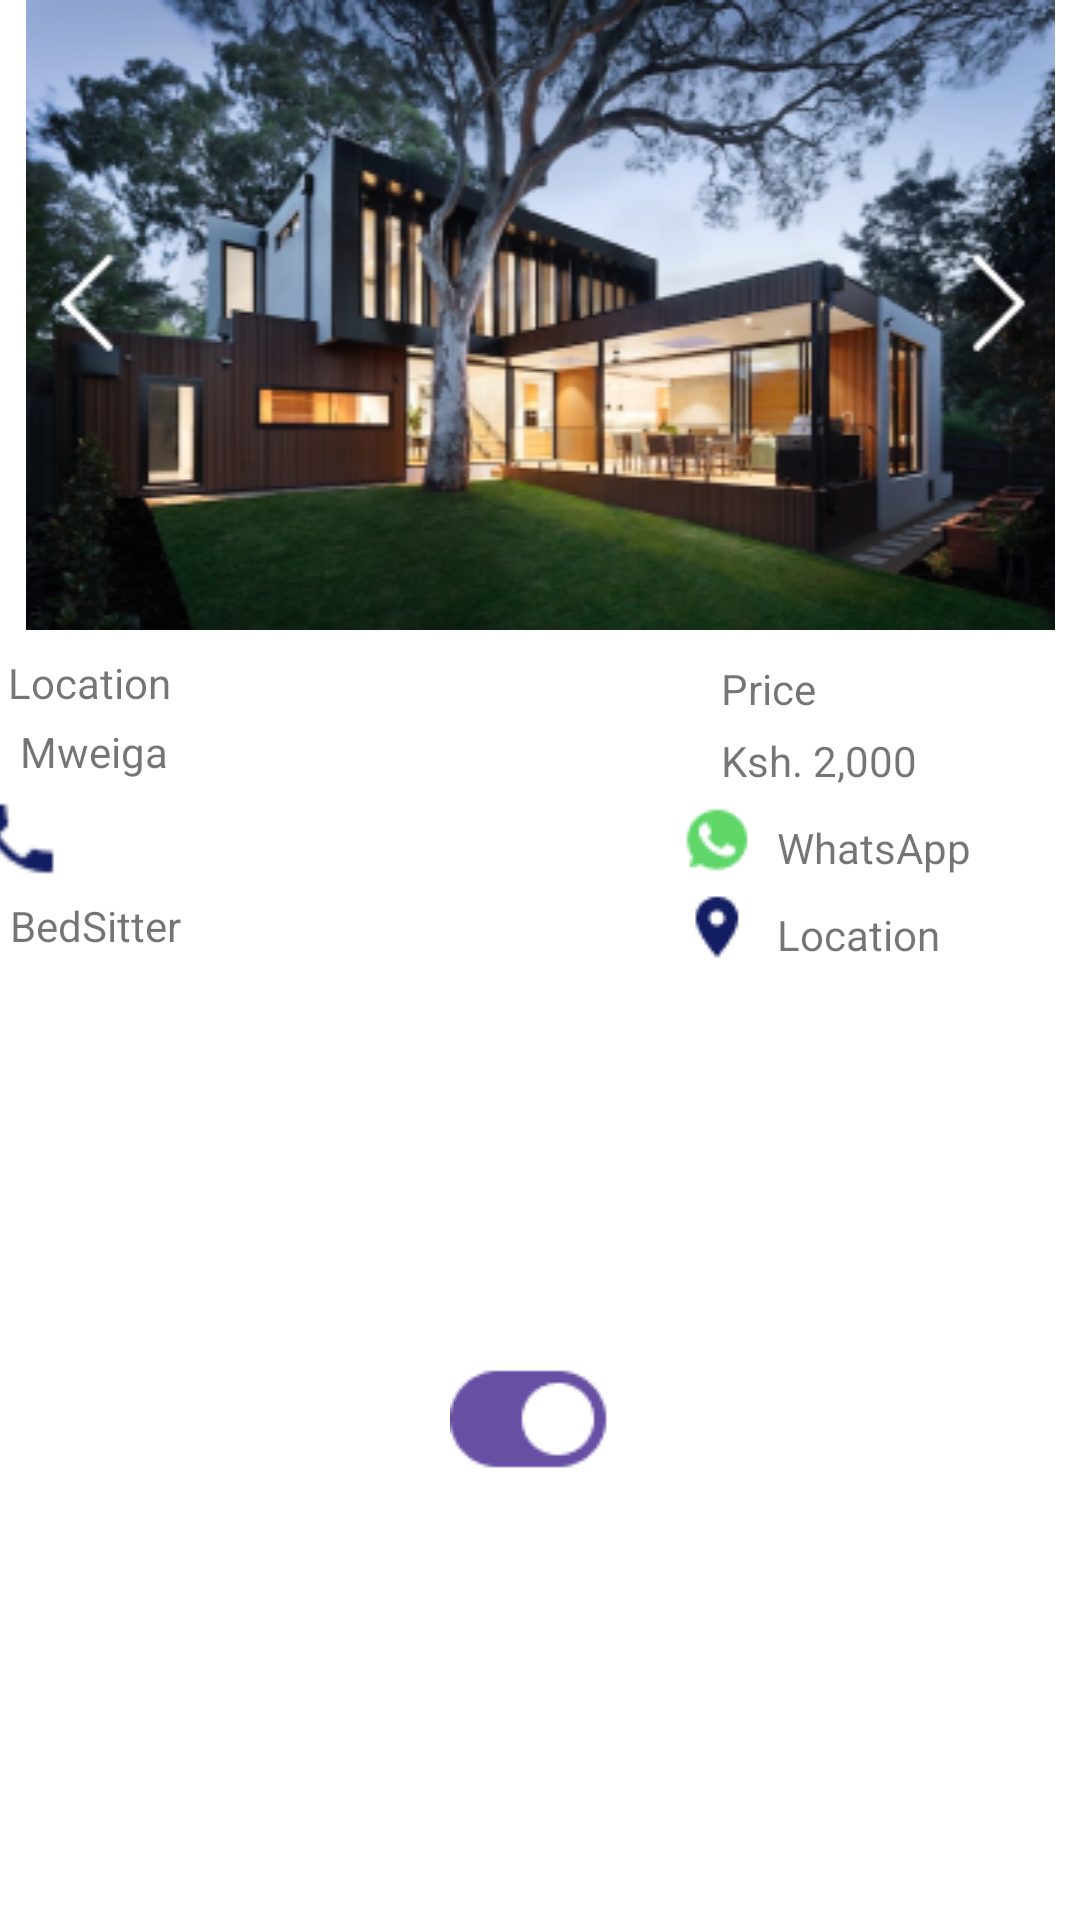

Point at icon controls on the screen. Image size 1080w x 1920h, points as [x,y].
switch on: [528,1419]
